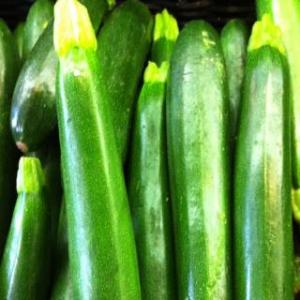zucchini: (148, 20, 236, 300)
